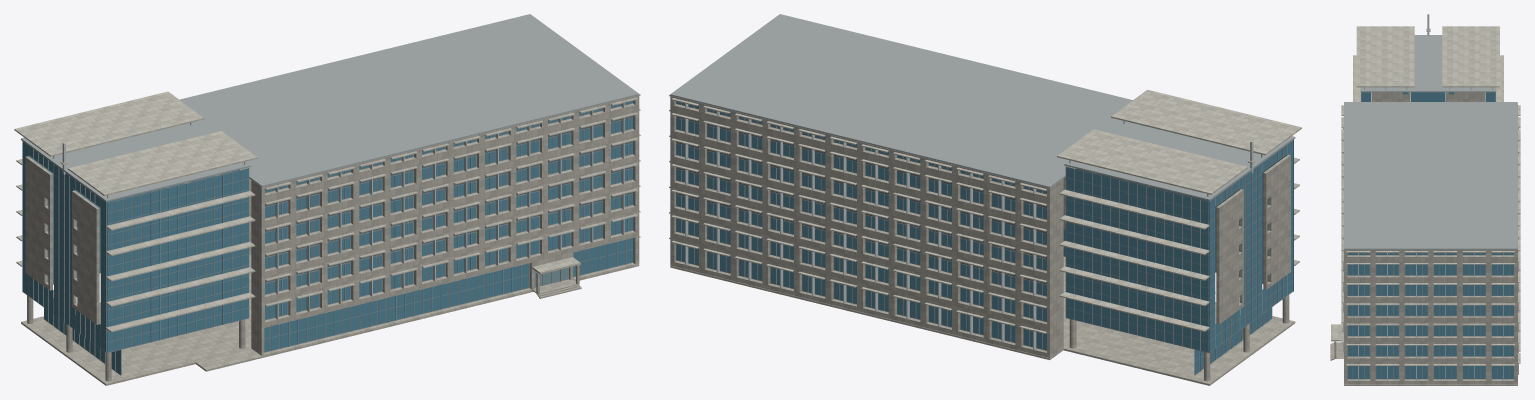
3 views of the same model, side by side, from view 1: azimuth 30°, elevation 25°; view 2: azimuth 150°, elevation 25°; view 3: azimuth 270°, elevation 25° (orthographic). The views are drawn at different scales.
Visible parts, largest first — view 1: unist-batch-eng1__stair-south-lobby, eng1__glass, eng1__roof, eng1__trim, eng1__frame, eng1__metal, eng1__dark; view 2: unist-batch-eng1__stair-south-lobby, eng1__roof, eng1__glass, eng1__trim, eng1__frame, eng1__metal, eng1__dark; view 3: eng1__roof, unist-batch-eng1__stair-south-lobby, eng1__trim, eng1__glass, eng1__frame, eng1__metal.
Part boxes in pixels (x1=…): unist-batch-eng1__stair-south-lobby: x1=21, y1=95, x2=639, y2=385; eng1__glass: x1=22, y1=101, x2=633, y2=375; eng1__roof: x1=21, y1=14, x2=639, y2=201; eng1__trim: x1=14, y1=91, x2=640, y2=332; eng1__frame: x1=22, y1=102, x2=633, y2=375; eng1__metal: x1=53, y1=103, x2=624, y2=319; eng1__dark: x1=265, y1=116, x2=633, y2=282; unist-batch-eng1__stair-south-lobby: x1=670, y1=96, x2=1295, y2=385; eng1__roof: x1=670, y1=14, x2=1295, y2=200; eng1__glass: x1=676, y1=101, x2=1293, y2=375; eng1__trim: x1=669, y1=89, x2=1301, y2=333; eng1__frame: x1=676, y1=102, x2=1293, y2=375; eng1__metal: x1=685, y1=103, x2=1262, y2=350; eng1__dark: x1=676, y1=116, x2=1046, y2=284; eng1__roof: x1=1344, y1=35, x2=1517, y2=249; unist-batch-eng1__stair-south-lobby: x1=1330, y1=92, x2=1517, y2=385; eng1__trim: x1=1331, y1=26, x2=1520, y2=365; eng1__glass: x1=1347, y1=92, x2=1513, y2=378; eng1__frame: x1=1348, y1=92, x2=1513, y2=379; eng1__metal: x1=1343, y1=14, x2=1518, y2=381.
Size of the model in its own units: 89.48 by 34.2 by 34.88.
9 materials, 3 textured.
